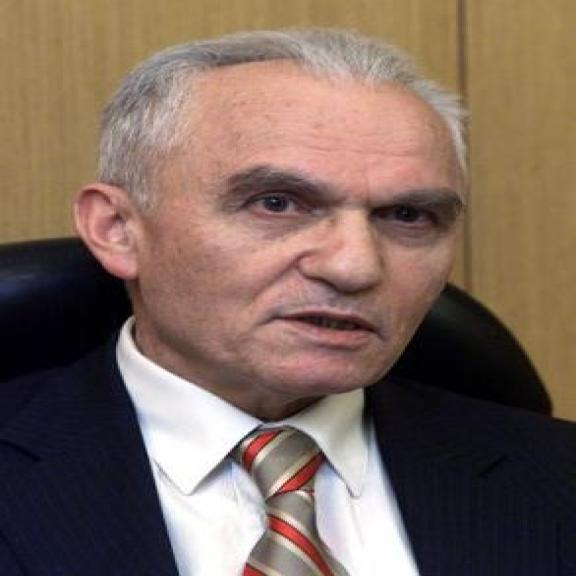face: (73, 81, 444, 394)
